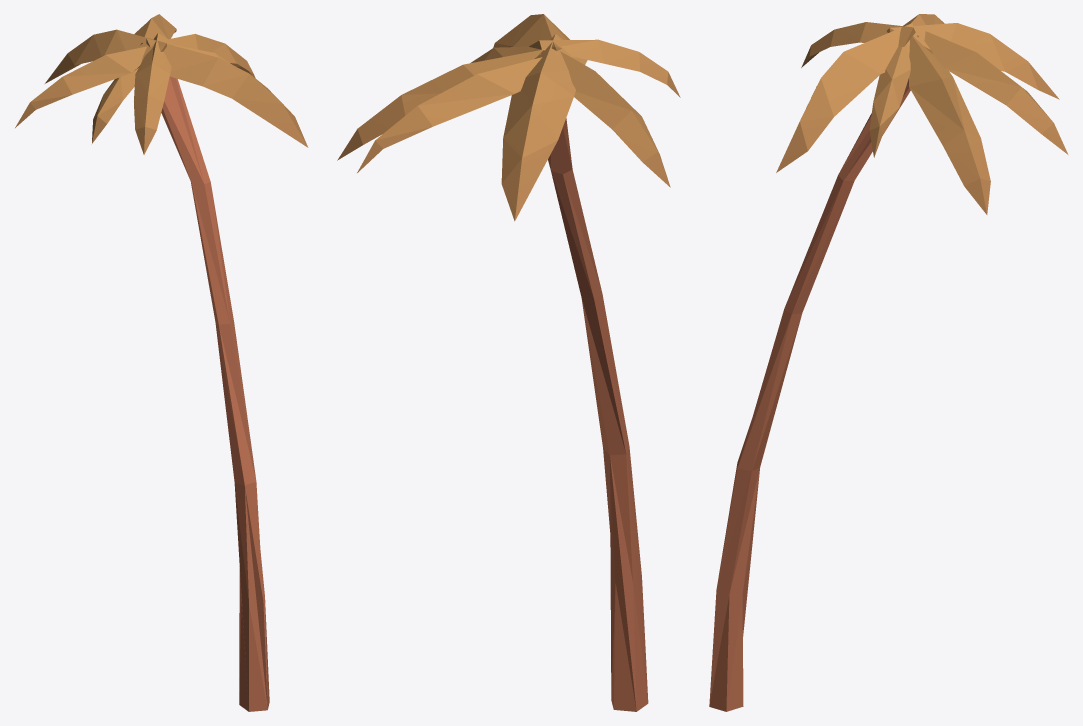
File: Tree_10_gradient_yellow_vc.fbx
3 views of the same model, side by side, from view 1: azimuth 30°, elevation 25°; view 2: azimuth 150°, elevation 25°; view 3: azimuth 270°, elevation 25° (orthographic). The views are drawn at different scales.
Parts seen in each view (by area): view 1: Tree_10_gradient_yellow_vc; view 2: Tree_10_gradient_yellow_vc; view 3: Tree_10_gradient_yellow_vc.
Boxes of the visible parts, x1=… form: Tree_10_gradient_yellow_vc: x1=15, y1=14, x2=308, y2=711; Tree_10_gradient_yellow_vc: x1=337, y1=14, x2=680, y2=711; Tree_10_gradient_yellow_vc: x1=709, y1=14, x2=1068, y2=711.
Size of the model in its own units: 89.06 by 201 by 97.75.
